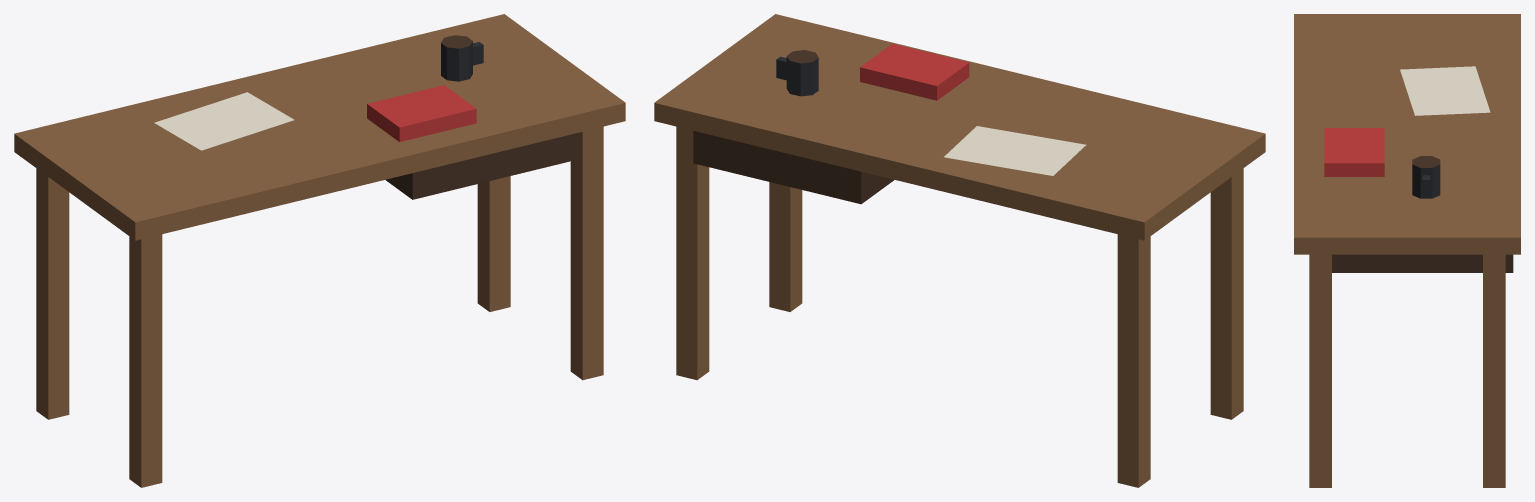
Rendered from desk.glb.
3 renders of one model, left to right at view 1: azimuth 30°, elevation 25°; view 2: azimuth 150°, elevation 25°; view 3: azimuth 270°, elevation 25°, orthographic. The views are drawn at different scales.
Parts seen in each view (by area): view 1: Desk; view 2: Desk; view 3: Desk.
Boxes of the visible parts, box(x1,y1,x2,y2) form: Desk: box(14, 14, 625, 487); Desk: box(654, 14, 1265, 487); Desk: box(1294, 14, 1520, 487).
Bounding box in the file's own units: 1.4 × 0.84 × 0.6.
